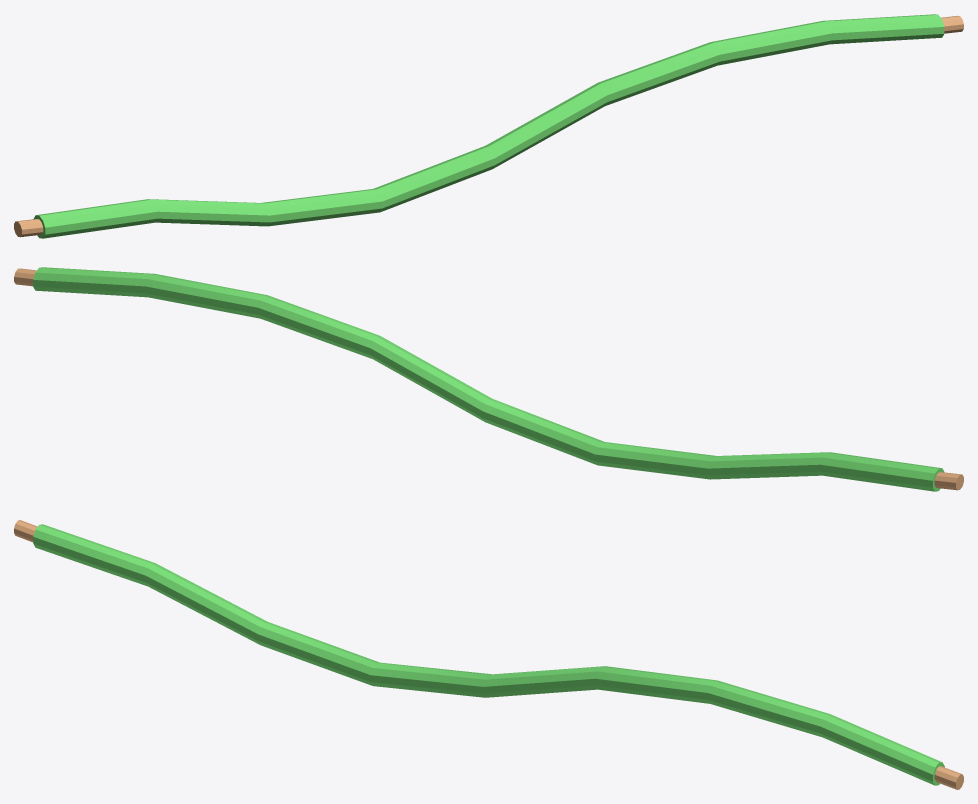
File: Wire_2_Green.fbx
3 views of the same model, one above another, from view 1: azimuth 30°, elevation 25°; view 2: azimuth 150°, elevation 25°; view 3: azimuth 330°, elevation 25° (orthographic).
Parts seen in each view (by area): view 1: polySurface235; view 2: polySurface235; view 3: polySurface235.
Part boxes in pixels (x1=…): polySurface235: x1=14, y1=14, x2=963, y2=238; polySurface235: x1=14, y1=267, x2=963, y2=491; polySurface235: x1=14, y1=520, x2=963, y2=789.
Size of the model in its own units: 1.42 by 0.1254 by 0.0308.
